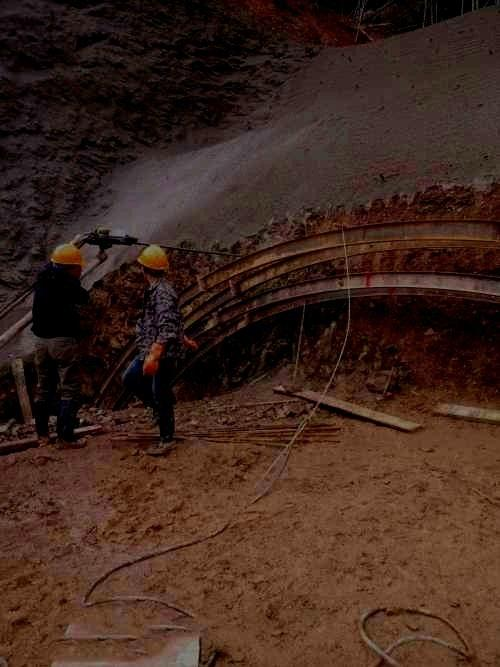helmet: (49, 243, 87, 279), (137, 243, 170, 281)
